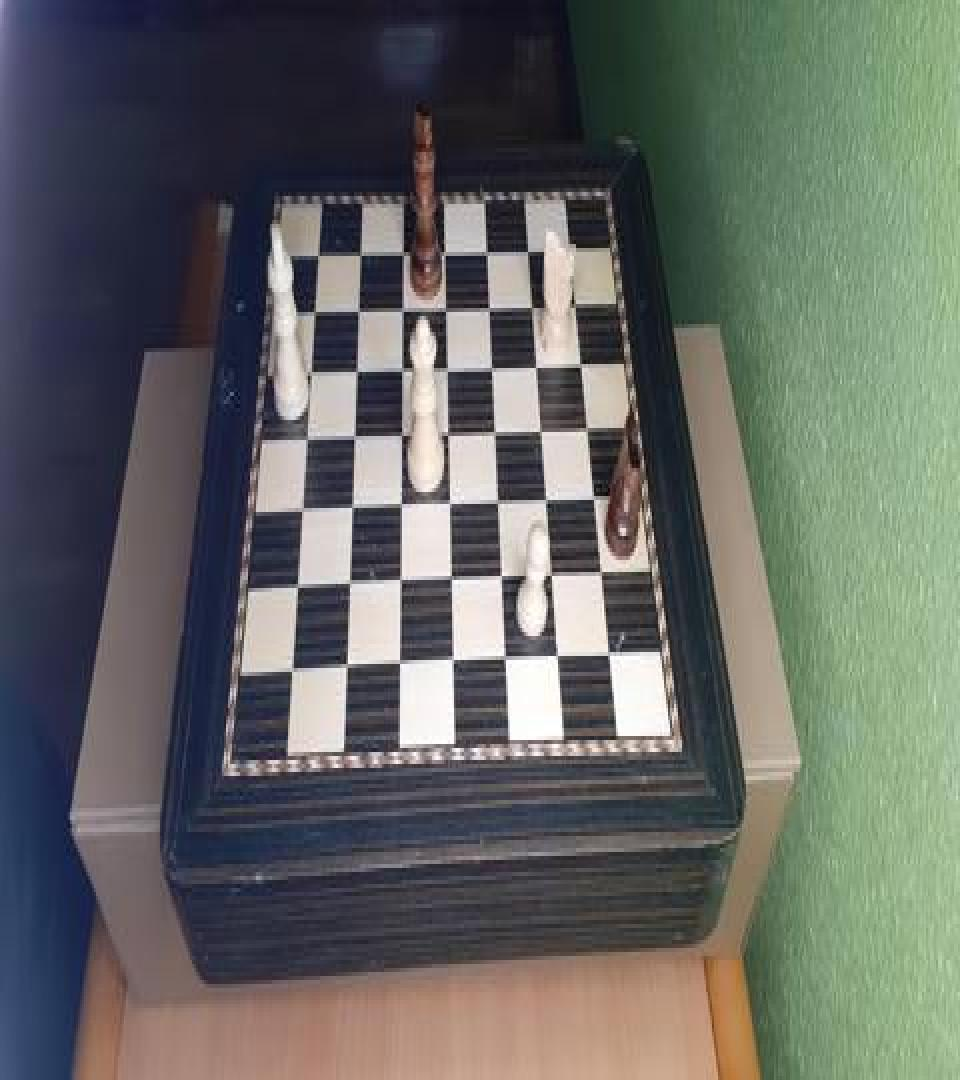xcorner: (312, 236, 324, 260), (308, 294, 320, 318), (304, 354, 316, 378), (300, 422, 312, 446), (295, 492, 307, 516), (290, 570, 302, 594), (284, 656, 296, 680), (355, 236, 367, 260), (353, 292, 365, 316), (350, 354, 362, 378), (348, 420, 360, 444), (345, 492, 357, 516), (342, 568, 354, 592), (339, 654, 351, 678), (398, 234, 410, 258), (397, 292, 409, 316), (397, 352, 409, 376), (396, 418, 408, 442), (395, 490, 407, 514), (394, 566, 406, 590), (393, 650, 405, 674), (441, 234, 453, 258), (441, 290, 453, 314), (442, 352, 454, 376), (443, 418, 455, 442), (444, 488, 456, 512), (446, 564, 458, 588), (447, 648, 459, 672), (483, 234, 495, 258), (485, 290, 497, 314), (488, 350, 500, 374), (491, 416, 503, 440), (494, 486, 506, 510), (497, 562, 509, 586), (500, 646, 512, 670), (525, 232, 537, 256), (529, 290, 541, 314), (533, 350, 545, 374), (538, 414, 550, 438), (542, 484, 554, 508), (548, 560, 560, 584), (554, 644, 566, 668), (567, 232, 579, 256), (572, 288, 584, 312), (578, 348, 590, 372), (584, 414, 596, 438), (591, 482, 603, 506), (598, 558, 610, 582), (606, 642, 618, 666)
